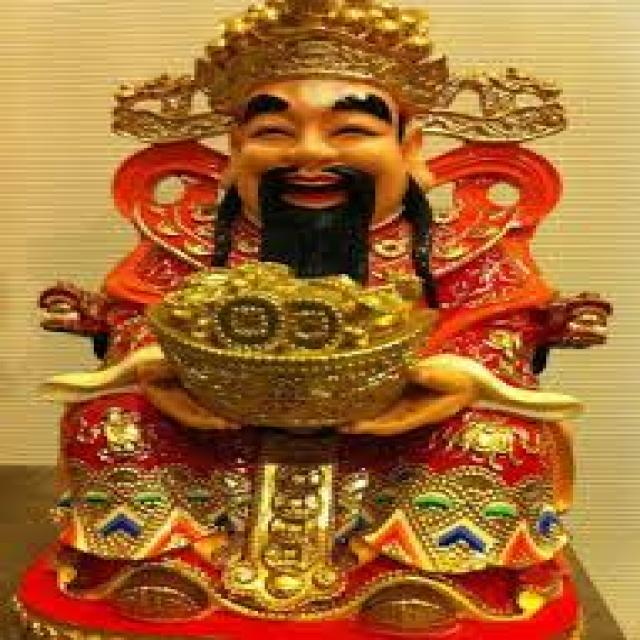Cai shen: (64, 0, 548, 533)
